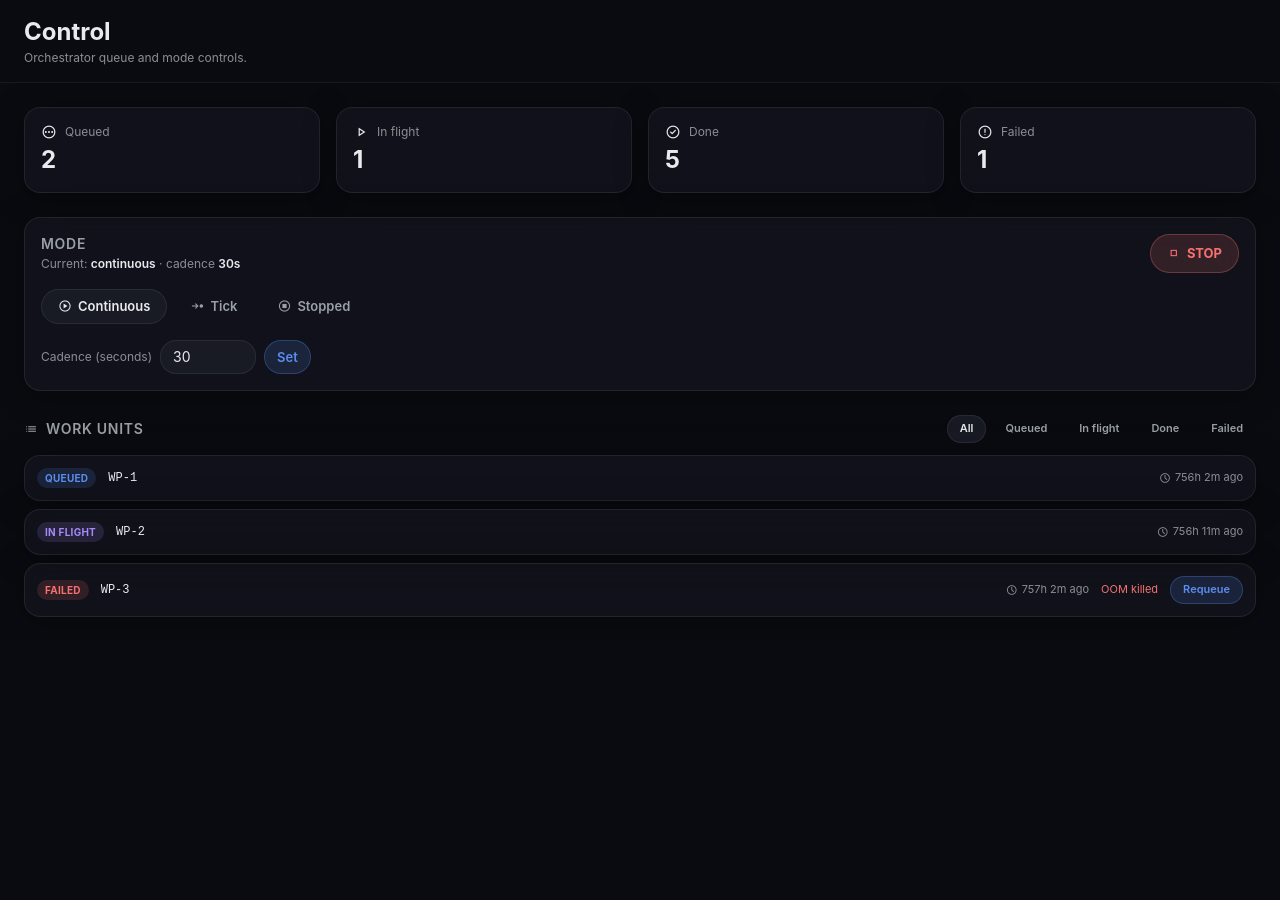
Scenario: ControlView › requeue error is surfaced to the user
Click the button "Requeue".
click(1207, 590)  # box [1170,576,1243,604]
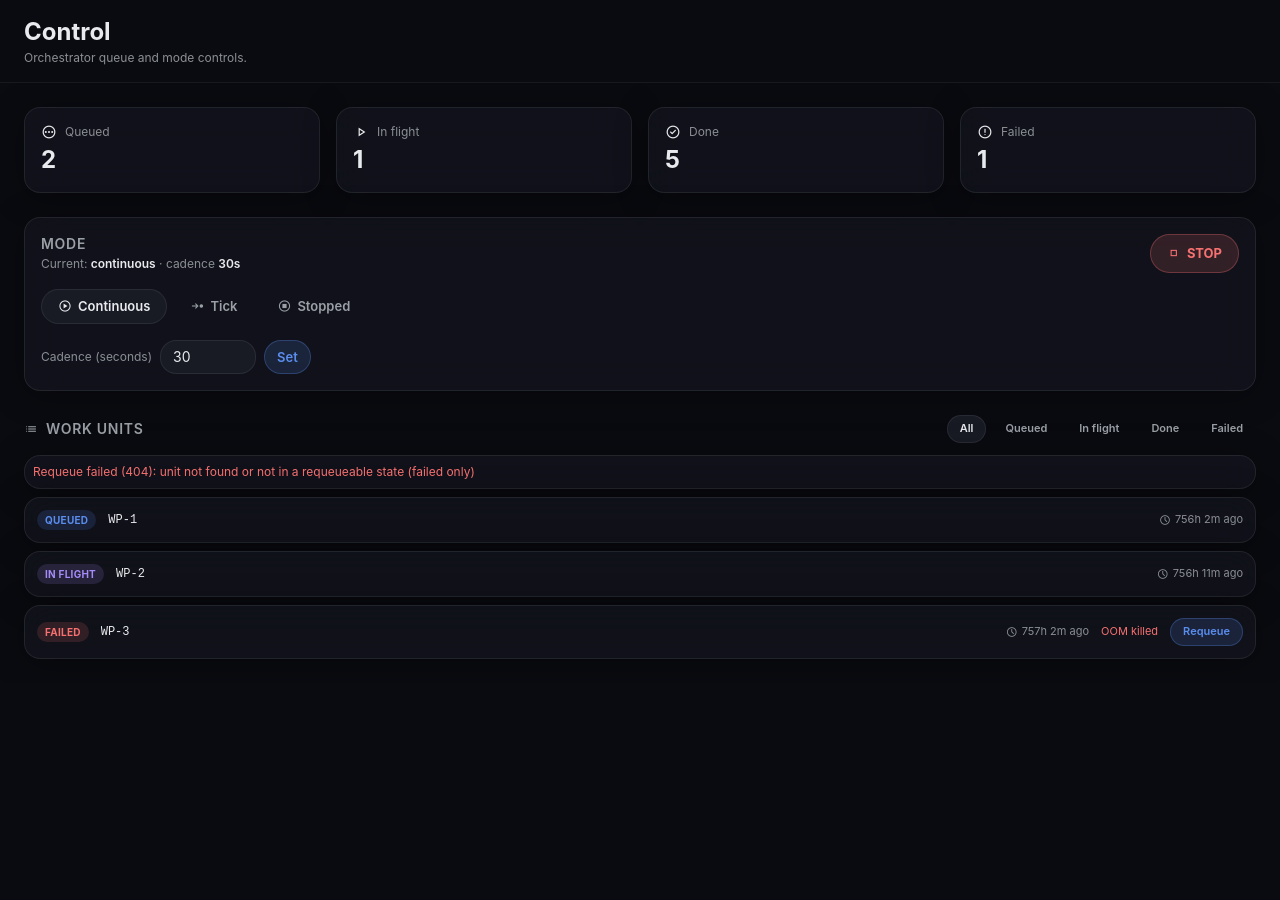
Now the text "Requeue failed" is shown, box [33,464,475,479]
